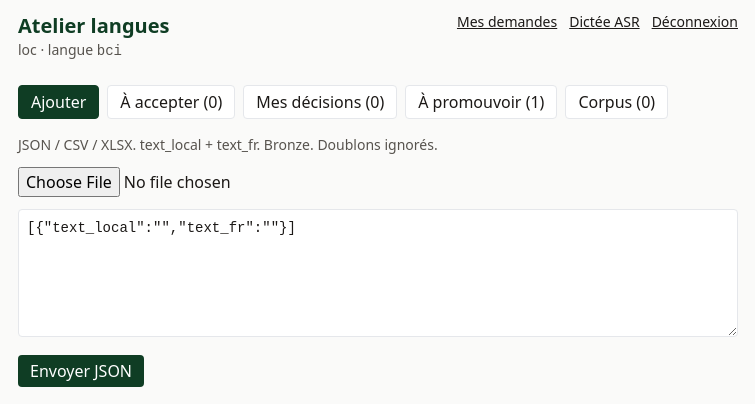
Test: StudioView — types d'element › n'affiche que le contenu dans « A promouvoir »
The width and height of the screenshot is (755, 404).
Click the button "À promouvoir (1)": (481,102) [405,85,557,119]
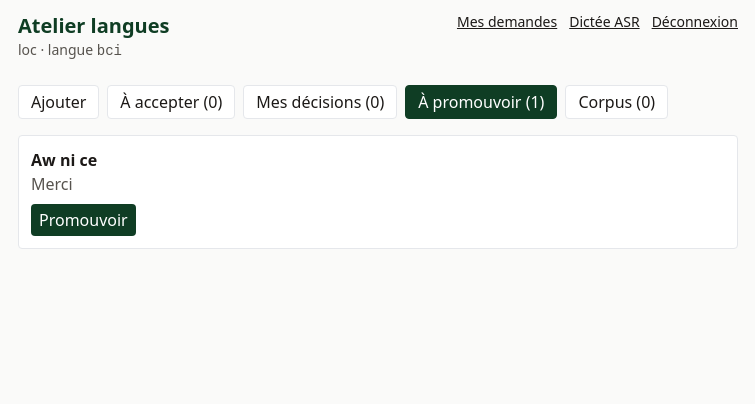
Now the element showing "Aw ni ce Merci Promouvoir" is shown, box [18,135,738,249]
